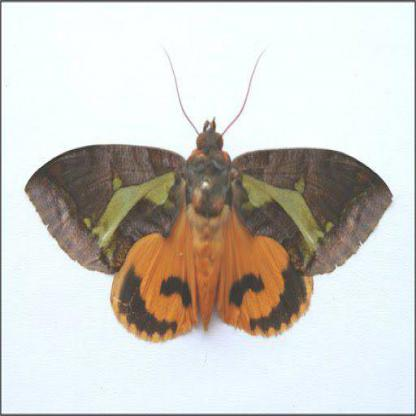fruit sucking moth: (24, 121, 396, 343)
